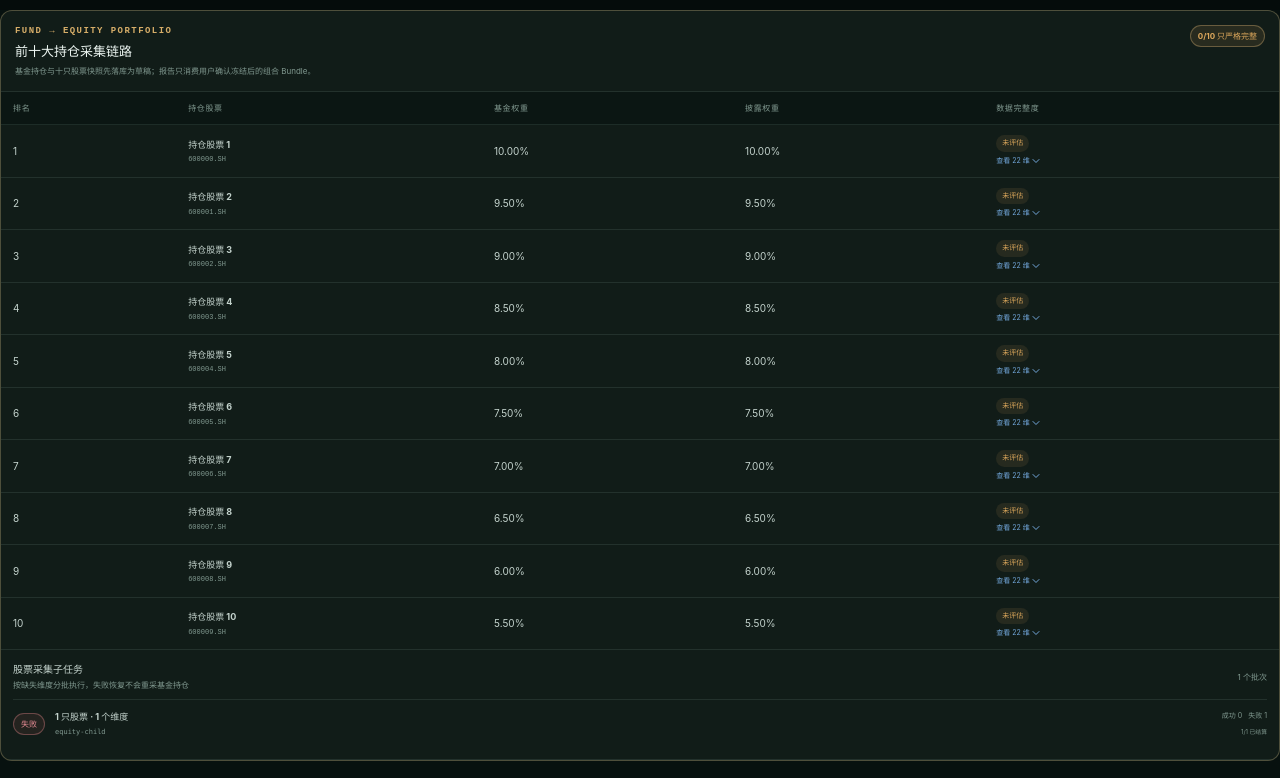
Test: FundCollectionOverview › explains the concrete capital-flow provider blockers
The image size is (1280, 778).
Click the button "查看 22 维" in the row of "600000.SH": (1019, 161) top-left (996, 155), bottom-right (1042, 167)
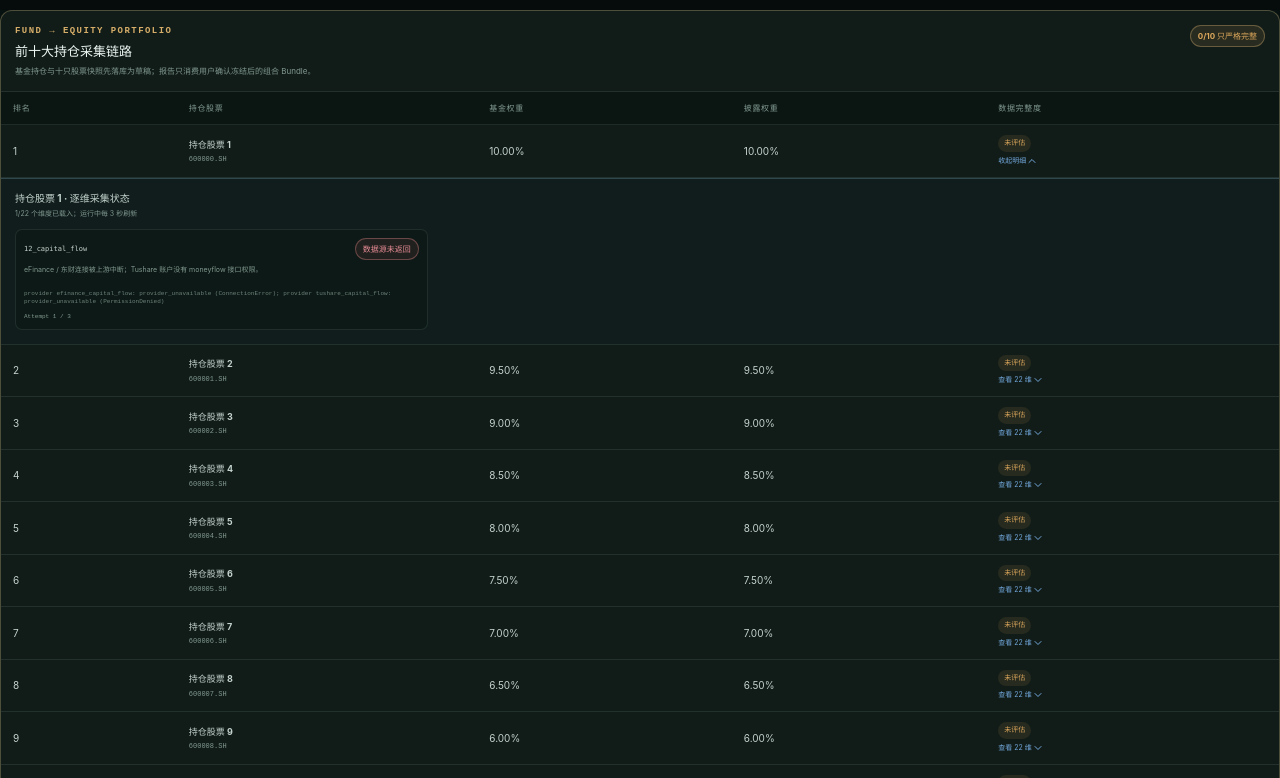
Now the text "eFinance / 东财连接被上游中断；Tushare 账户没有 moneyflow 接口权限。" is shown, box top-left (24, 265), bottom-right (263, 274)
